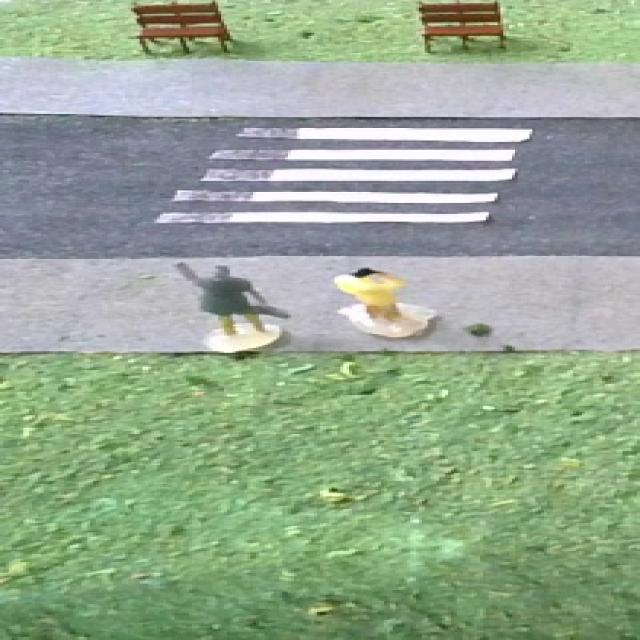person: (175, 263, 290, 335), (335, 269, 404, 321)
